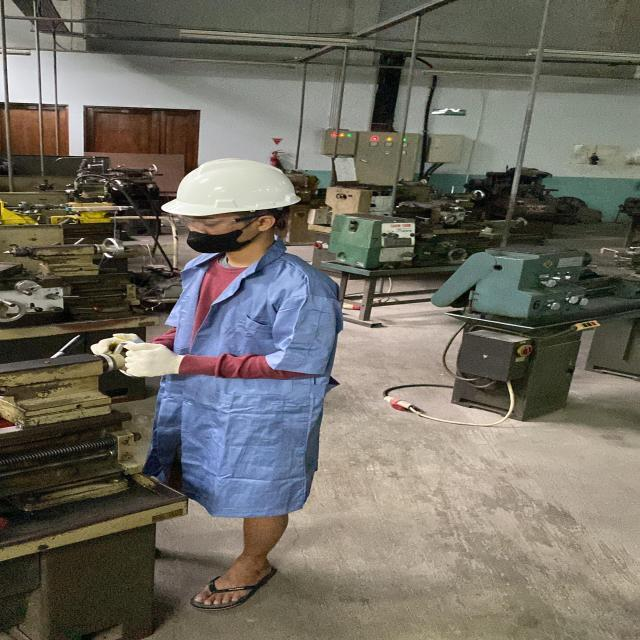glasses: (170, 210, 254, 234)
